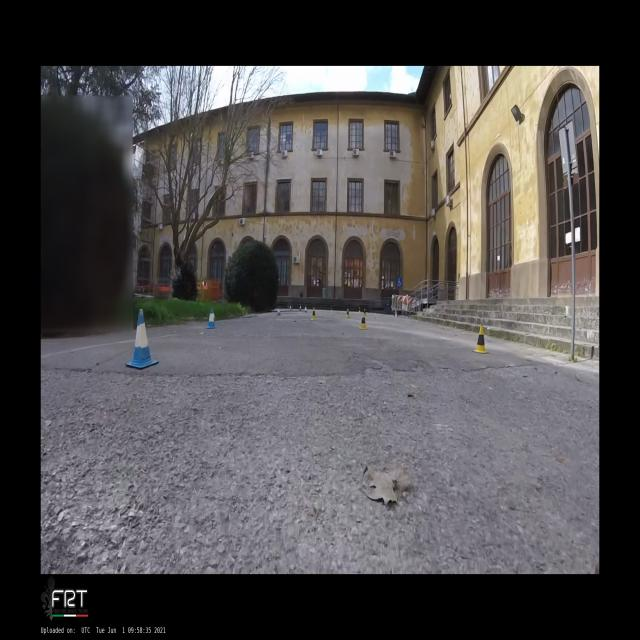blue_cone: (125, 309, 159, 370), (206, 307, 217, 329), (277, 307, 281, 316), (304, 305, 307, 312), (299, 305, 302, 311), (289, 306, 292, 310)
yellow_cone: (472, 325, 489, 354), (358, 312, 368, 330), (310, 307, 316, 320), (345, 308, 350, 319), (364, 308, 367, 317), (358, 307, 362, 312)
